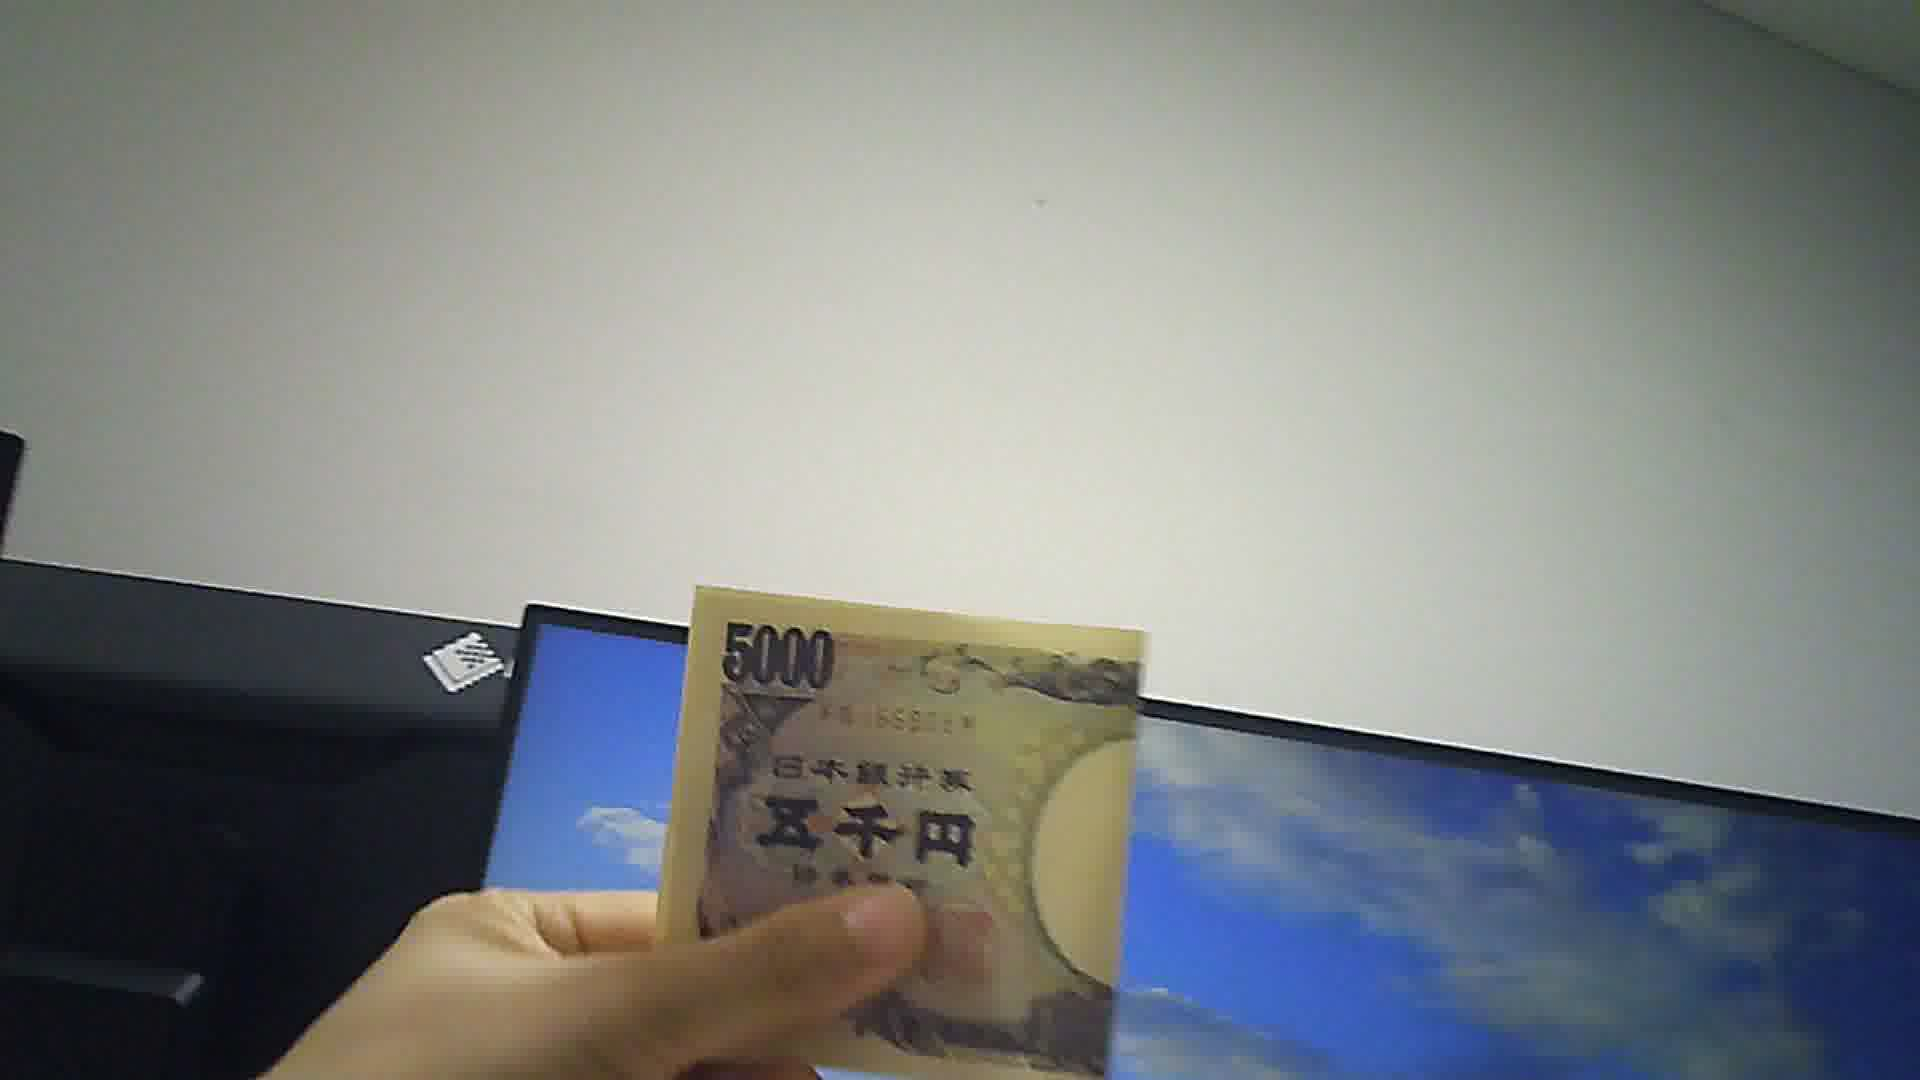5,000 Yen: (659, 578, 1153, 1079)
